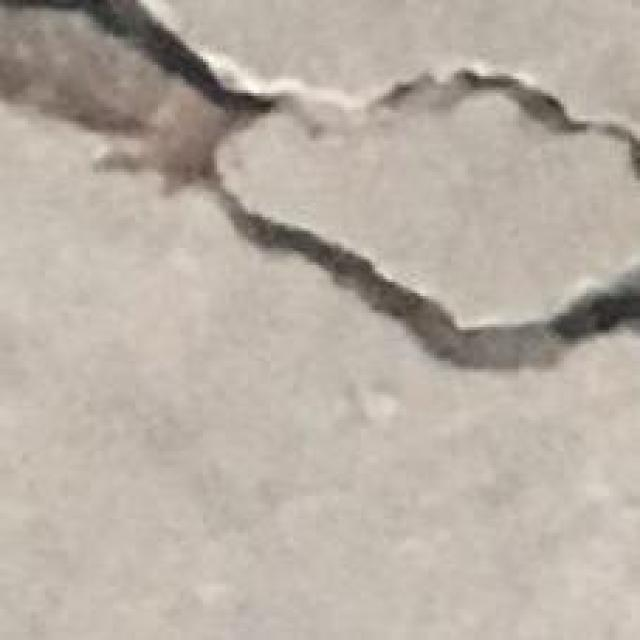Crack: (3, 3, 640, 375)
